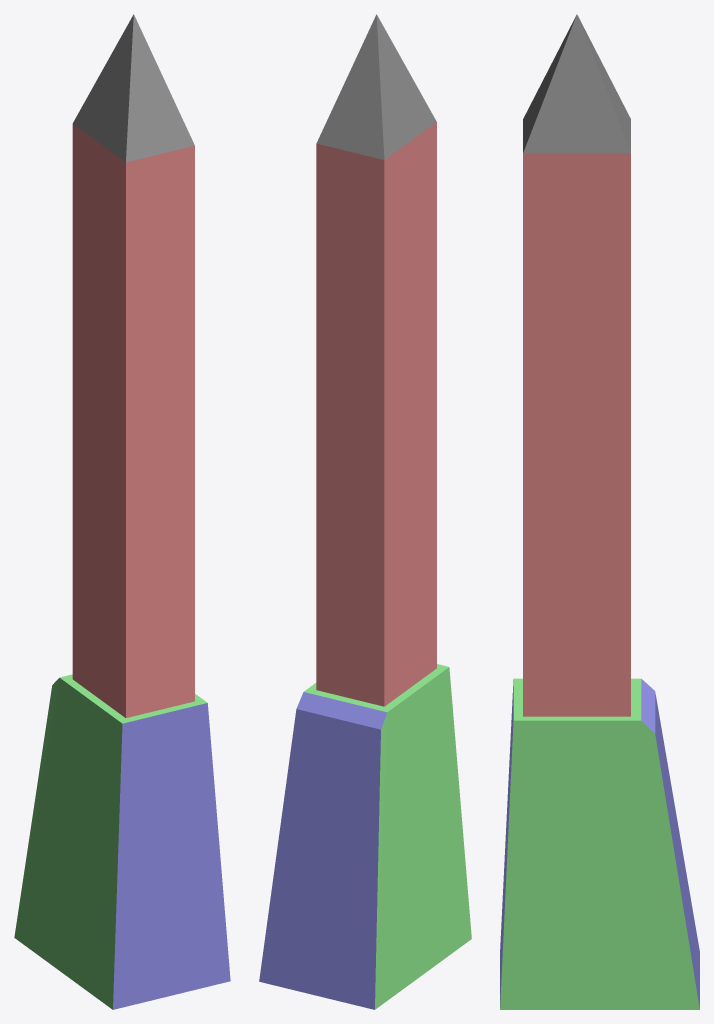
The model's file is L2fortress_02_s__fort02_wall_deco03.gltf.
3 renders of one model, left to right at view 1: azimuth 30°, elevation 25°; view 2: azimuth 150°, elevation 25°; view 3: azimuth 270°, elevation 25°, orthographic. The views are drawn at different scales.
Visible parts, largest first — view 1: fort02_wall_deco03; view 2: fort02_wall_deco03; view 3: fort02_wall_deco03.
Boxes of the visible parts, box(x1,y1,x2,y2) form: fort02_wall_deco03: box(14, 14, 230, 1009); fort02_wall_deco03: box(259, 14, 471, 1009); fort02_wall_deco03: box(500, 14, 699, 1009).
Size of the model in its own units: 0.5106 by 3.95 by 0.7407.
